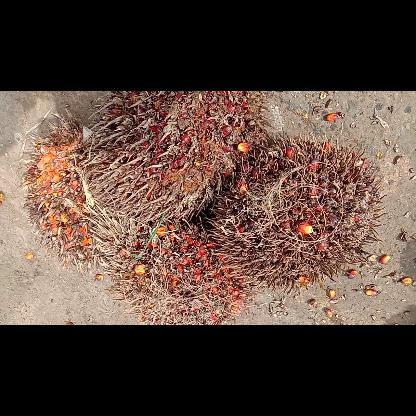Terlalu masak: (205, 132, 385, 294), (90, 91, 274, 221), (89, 204, 253, 324), (20, 108, 104, 268)
